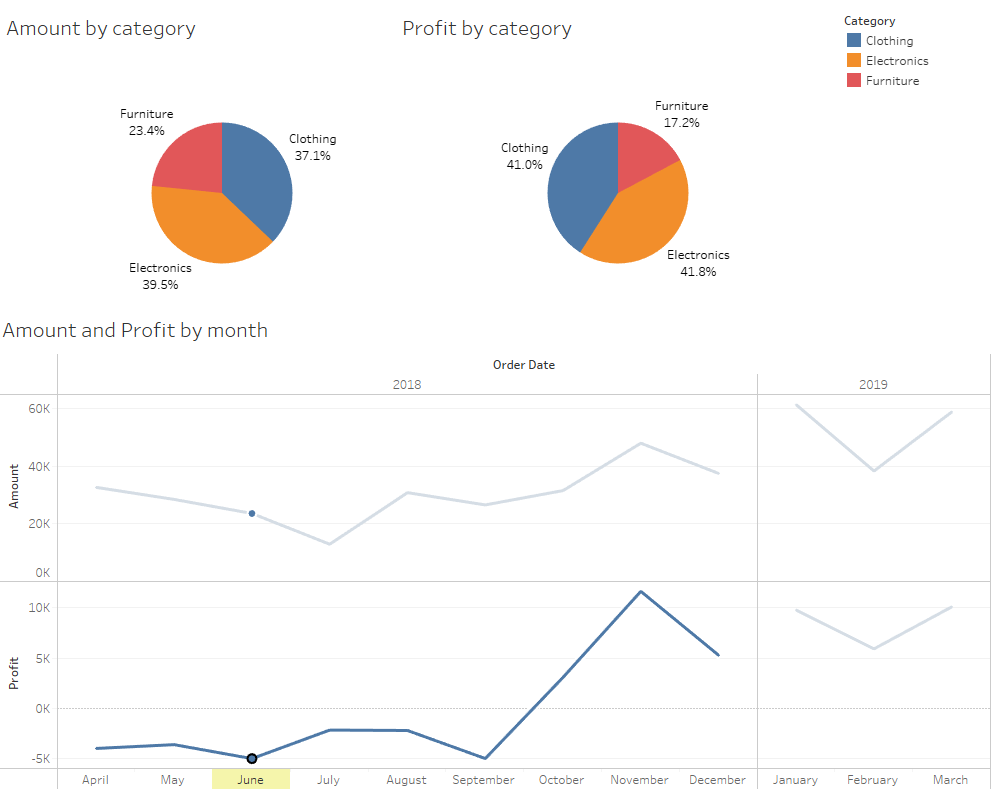

Layout of this report page (visuals, bound fields, positions):
{"tool":"tableau","page":{"name":"Dashboard 1","canvas":[1000,800],"ordinal":0},"visuals":[{"type":"worksheet","title":"Sheet 1","mark":"Pie","box":[6,14,440,325]},{"type":"worksheet","title":"Sheet 2","mark":"Pie","box":[402,14,440,325]},{"type":"legend","title":"Sheet 1","param":"[federated.0m88nqi1w2g4np1cgb4lk1v1m7ds].[none:Category:nk]","box":[848,17,140,78]},{"type":"worksheet","title":"Sheet 3","mark":"Automatic","rows":["Amount","Profit"],"cols":["Order Date","Order Date"],"box":[2,316,993,479]}]}

Visuals, with their boxes in screenshot pixels (x1, y1, x2, y2), scaled from the page's 1000x800 canvas onto the 992x794 screenshot:
"Sheet 1" worksheet (Pie marks): box=[6, 14, 442, 336]
"Sheet 2" worksheet (Pie marks): box=[399, 14, 835, 336]
"Sheet 1" legend: box=[841, 17, 980, 94]
"Sheet 3" worksheet: box=[2, 314, 987, 789]
